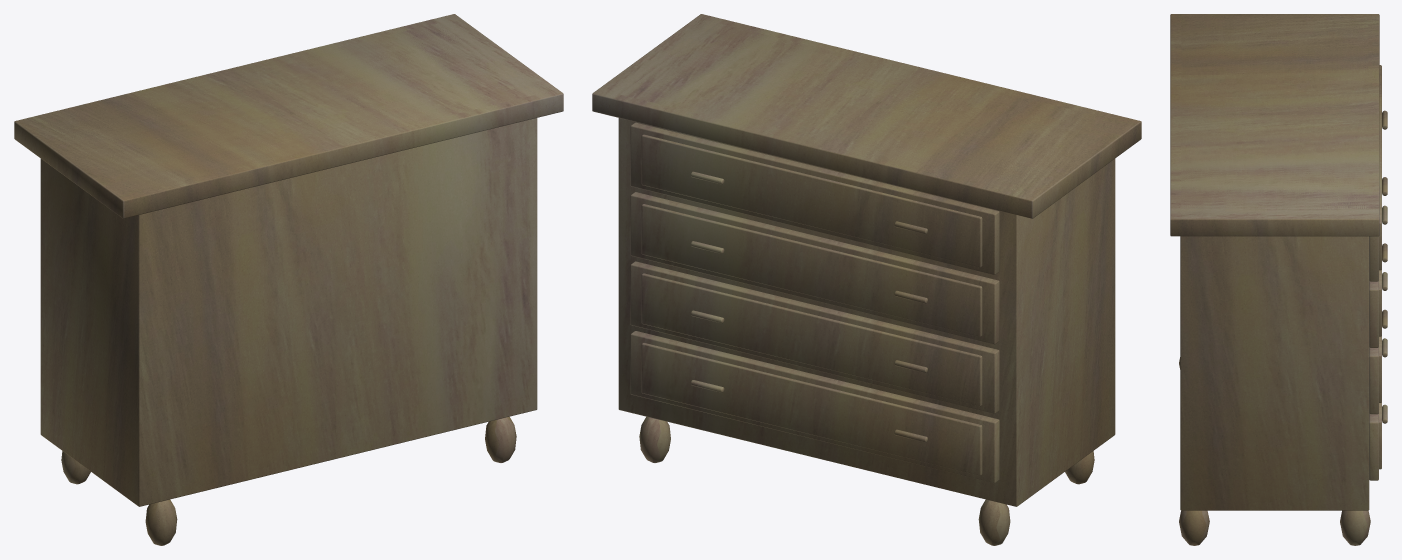
The model's file is Antique_Chest_08.fbx.
The picture shows the model from 3 angles, left to right: view 1: azimuth 30°, elevation 25°; view 2: azimuth 150°, elevation 25°; view 3: azimuth 270°, elevation 25°; orthographic projection. The views are drawn at different scales.
Parts seen in each view (by area): view 1: Antique_Chest; view 2: Antique_Chest; view 3: Antique_Chest.
Part boxes in pixels (x1,y1,x2,y2): Antique_Chest: (14, 14, 563, 545); Antique_Chest: (592, 14, 1141, 545); Antique_Chest: (1170, 14, 1387, 545).
Size of the model in its own units: 1.26 by 0.9982 by 0.5621.
1 material, 1 textured.
